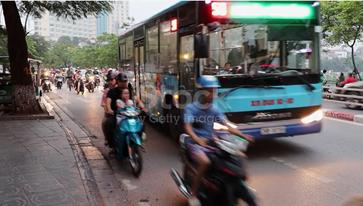bus: (114, 0, 331, 156)
motorcycle: (166, 126, 280, 204), (102, 92, 157, 174), (38, 71, 55, 94), (73, 70, 88, 96), (86, 71, 98, 94)
